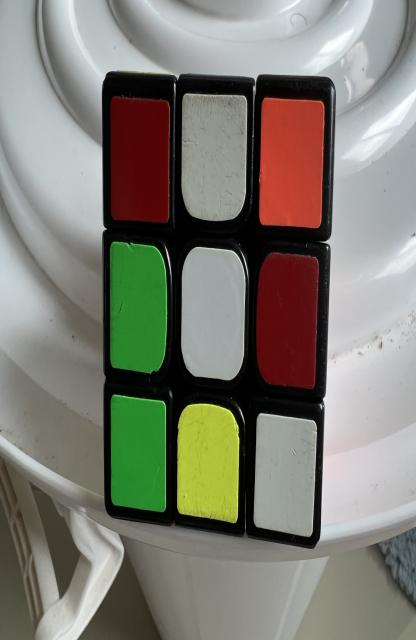Green: (110, 242, 167, 373), (110, 395, 167, 512)
Orange: (259, 97, 324, 228)
Red: (256, 252, 318, 388), (110, 97, 170, 223)
White: (181, 247, 246, 380), (181, 93, 247, 222), (254, 413, 317, 537)
Yellow: (177, 403, 240, 523)
